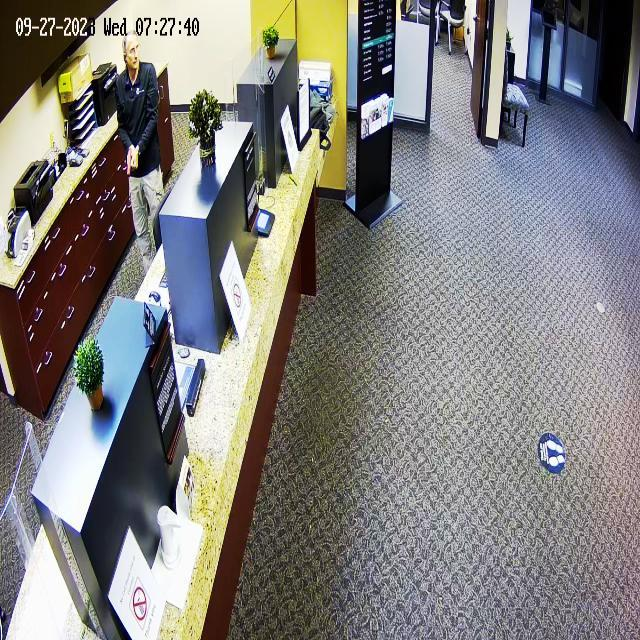Gun: (122, 140, 141, 188)
